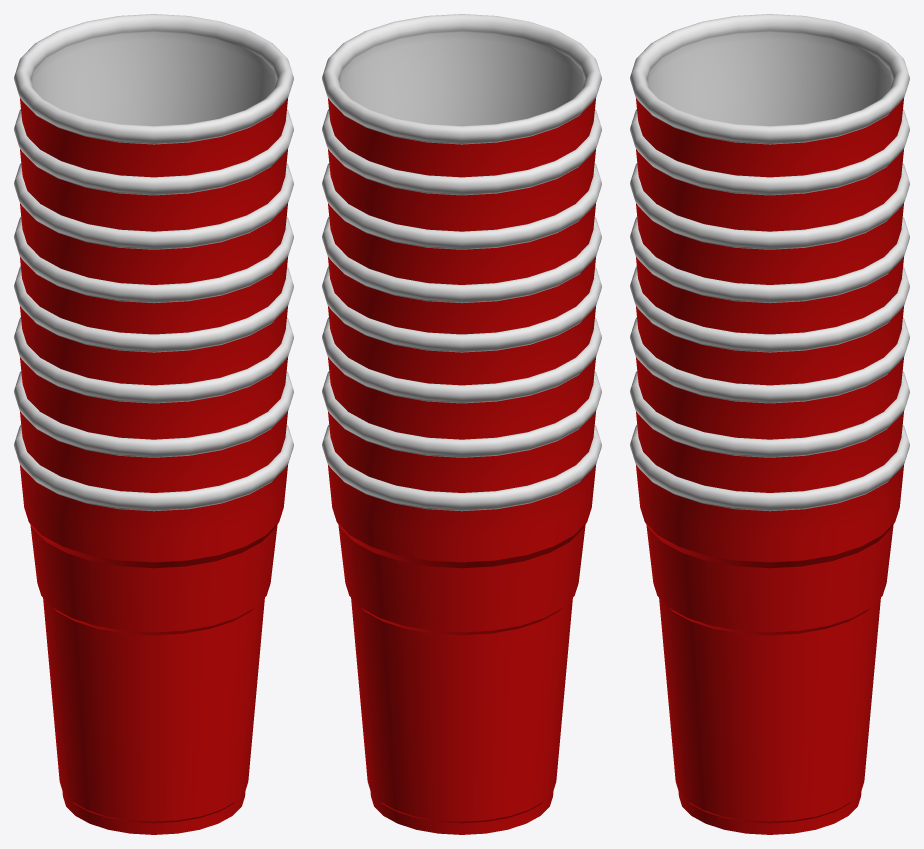
Rendered from solocup3.fbx.
3 views of the same model, side by side, from view 1: azimuth 30°, elevation 25°; view 2: azimuth 150°, elevation 25°; view 3: azimuth 270°, elevation 25° (orthographic).
Parts seen in each view (by area): view 1: pCylinder1, pCylinder6, pCylinder4, pCylinder7, pCylinder8, pCylinder3, pCylinder5, pCylinder9; view 2: pCylinder1, pCylinder6, pCylinder4, pCylinder7, pCylinder8, pCylinder3, pCylinder5, pCylinder9; view 3: pCylinder1, pCylinder6, pCylinder4, pCylinder7, pCylinder8, pCylinder3, pCylinder5, pCylinder9.
Part boxes in pixels (<box>): pCylinder1: <box>14,424,293,834</box>; pCylinder6: <box>14,14,293,177</box>; pCylinder4: <box>14,317,293,439</box>; pCylinder7: <box>14,109,293,231</box>; pCylinder8: <box>14,163,293,284</box>; pCylinder3: <box>14,371,293,492</box>; pCylinder5: <box>14,266,293,385</box>; pCylinder9: <box>14,216,293,334</box>; pCylinder1: <box>322,424,601,834</box>; pCylinder6: <box>322,14,601,177</box>; pCylinder4: <box>322,317,601,439</box>; pCylinder7: <box>322,109,601,231</box>; pCylinder8: <box>322,163,601,284</box>; pCylinder3: <box>322,371,601,492</box>; pCylinder5: <box>322,266,601,385</box>; pCylinder9: <box>322,216,601,334</box>; pCylinder1: <box>630,424,909,834</box>; pCylinder6: <box>630,14,909,177</box>; pCylinder4: <box>630,317,909,439</box>; pCylinder7: <box>630,109,909,231</box>; pCylinder8: <box>630,163,909,284</box>; pCylinder3: <box>630,371,909,492</box>; pCylinder5: <box>630,266,909,385</box>; pCylinder9: <box>630,216,909,334</box>.
Bounding box in the file's own units: 4.22 × 12.09 × 4.22.
